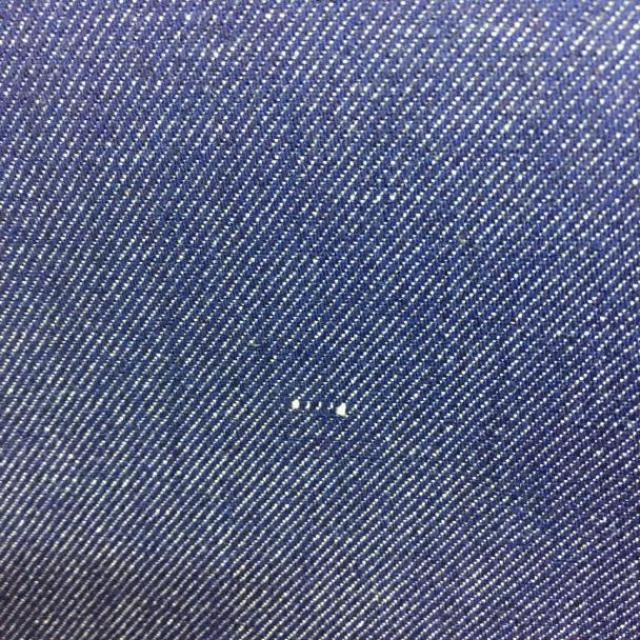Knot: (288, 397, 351, 419), (348, 187, 416, 204)
